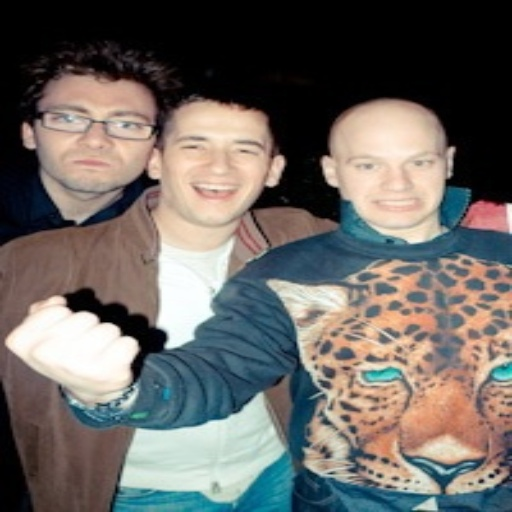hand: (25, 307, 161, 399)
